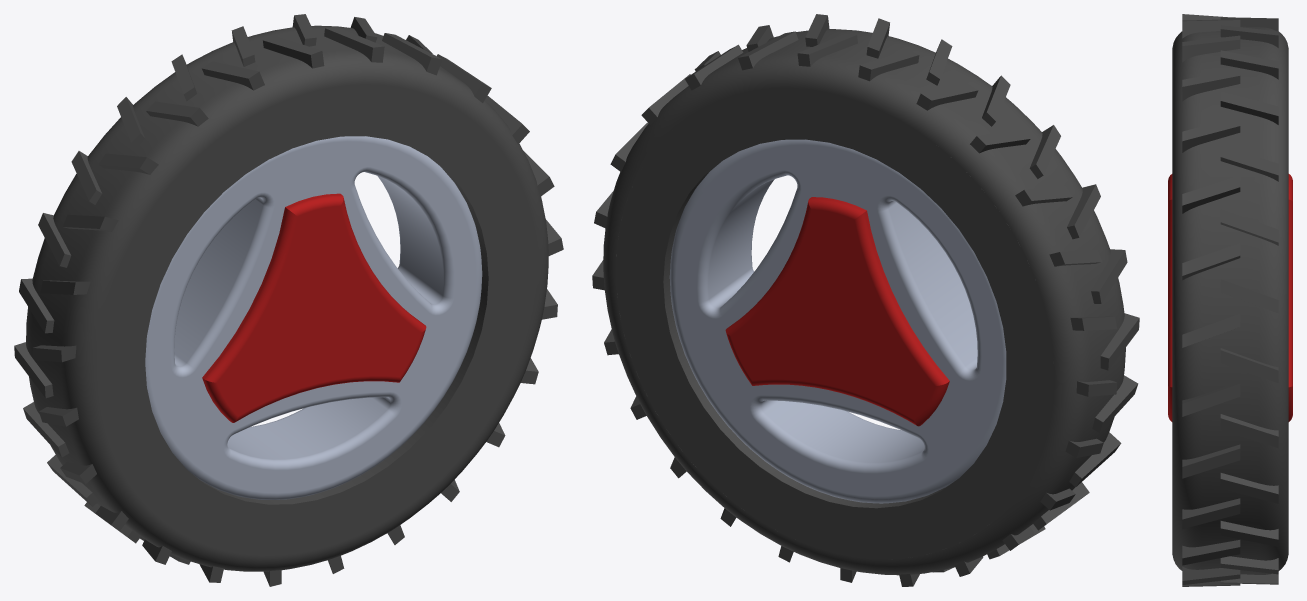
File: front_wheel.dae
3 views of the same model, side by side, from view 1: azimuth 30°, elevation 25°; view 2: azimuth 150°, elevation 25°; view 3: azimuth 270°, elevation 25° (orthographic).
Parts seen in each view (by area): view 1: _3DGeom_337, _3DGeom_74, _3DGeom_75, _3DGeom_336; view 2: _3DGeom_337, _3DGeom_74, _3DGeom_15, _3DGeom_336; view 3: _3DGeom_337, _3DGeom_336, _3DGeom_15, _3DGeom_75.
Boxes of the visible parts, box(x1,y1,x2,y2) form: _3DGeom_337: box(26, 25, 548, 571); _3DGeom_74: box(145, 136, 482, 499); _3DGeom_75: box(202, 193, 426, 422); _3DGeom_336: box(14, 14, 563, 586); _3DGeom_337: box(603, 29, 1125, 575); _3DGeom_74: box(669, 139, 1006, 503); _3DGeom_15: box(725, 197, 949, 426); _3DGeom_336: box(592, 14, 1139, 586); _3DGeom_337: box(1172, 26, 1288, 574); _3DGeom_336: box(1182, 14, 1278, 586); _3DGeom_15: box(1288, 174, 1292, 421); _3DGeom_75: box(1168, 174, 1172, 421).
Size of the model in its own units: 0.3438 by 0.075 by 0.3441.
